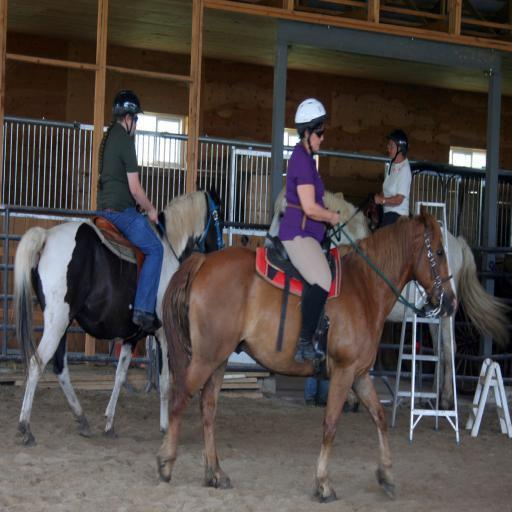horse: (154, 203, 458, 503), (264, 182, 512, 412), (15, 176, 225, 447)
